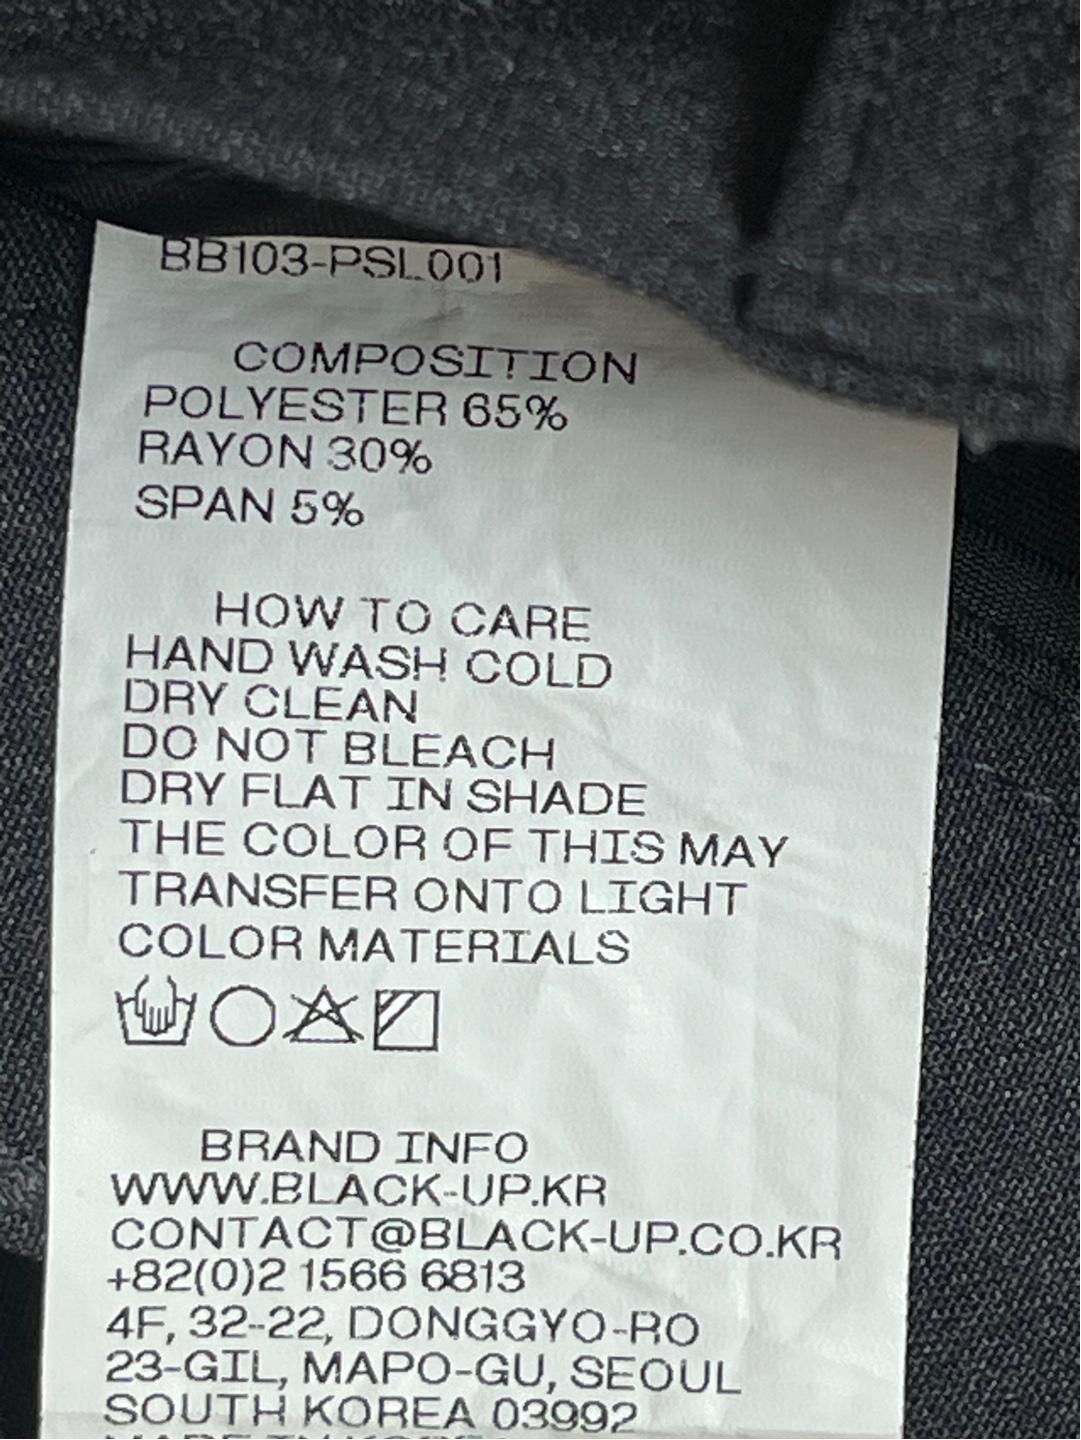DN_bleach: (284, 985, 361, 1053)
dry_clean: (206, 978, 284, 1055)
hand_wash: (109, 966, 201, 1060)
shade_dry: (369, 978, 452, 1061)
